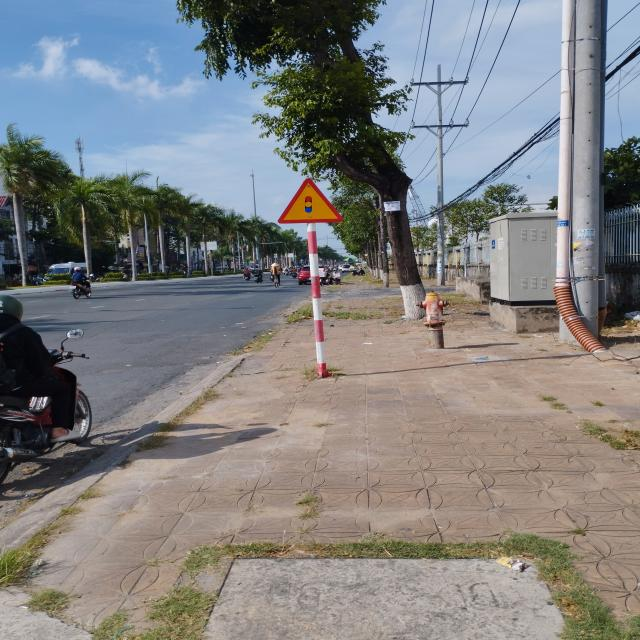Duong_Co_Go_Giam_Toc: (277, 178, 343, 224)
